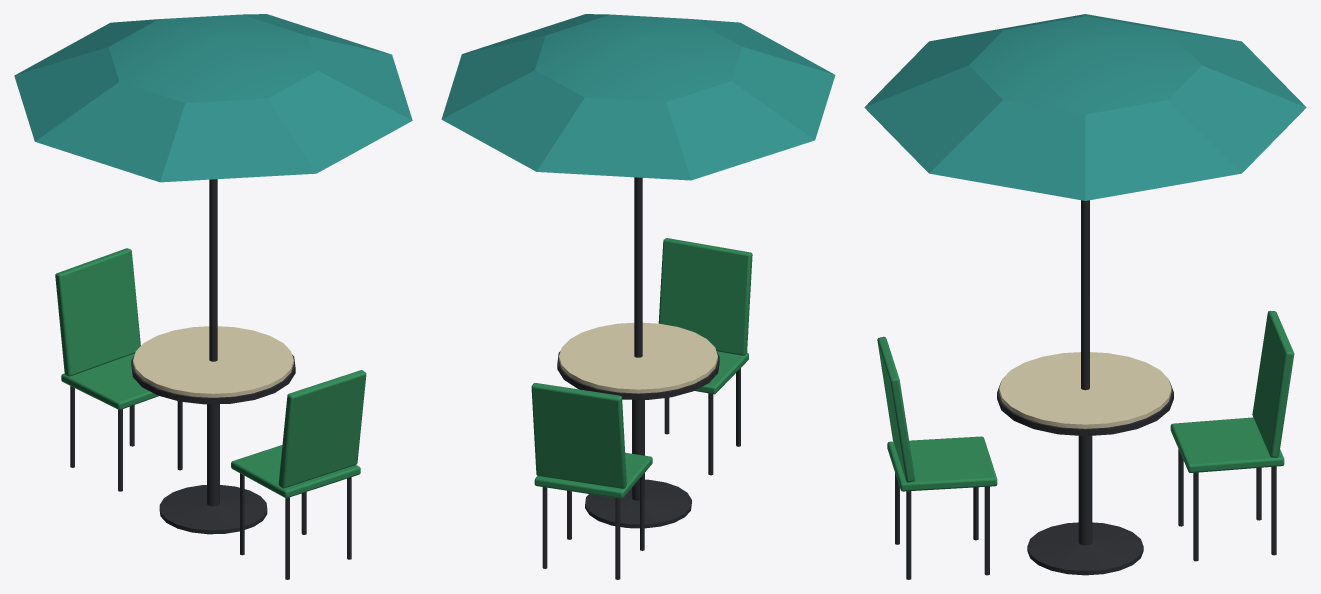
The model's file is bistro_set.fbx.
3 renders of one model, left to right at view 1: azimuth 30°, elevation 25°; view 2: azimuth 150°, elevation 25°; view 3: azimuth 270°, elevation 25°, orthographic. The views are drawn at different scales.
Parts seen in each view (by area): view 1: bistro_set; view 2: bistro_set; view 3: bistro_set.
Boxes of the visible parts, left/top/right/bottom form: bistro_set: left=14, top=14, right=412, bottom=579; bistro_set: left=441, top=14, right=835, bottom=579; bistro_set: left=864, top=14, right=1306, bottom=579.
Size of the model in its own units: 1.9 by 2.4 by 1.9.
